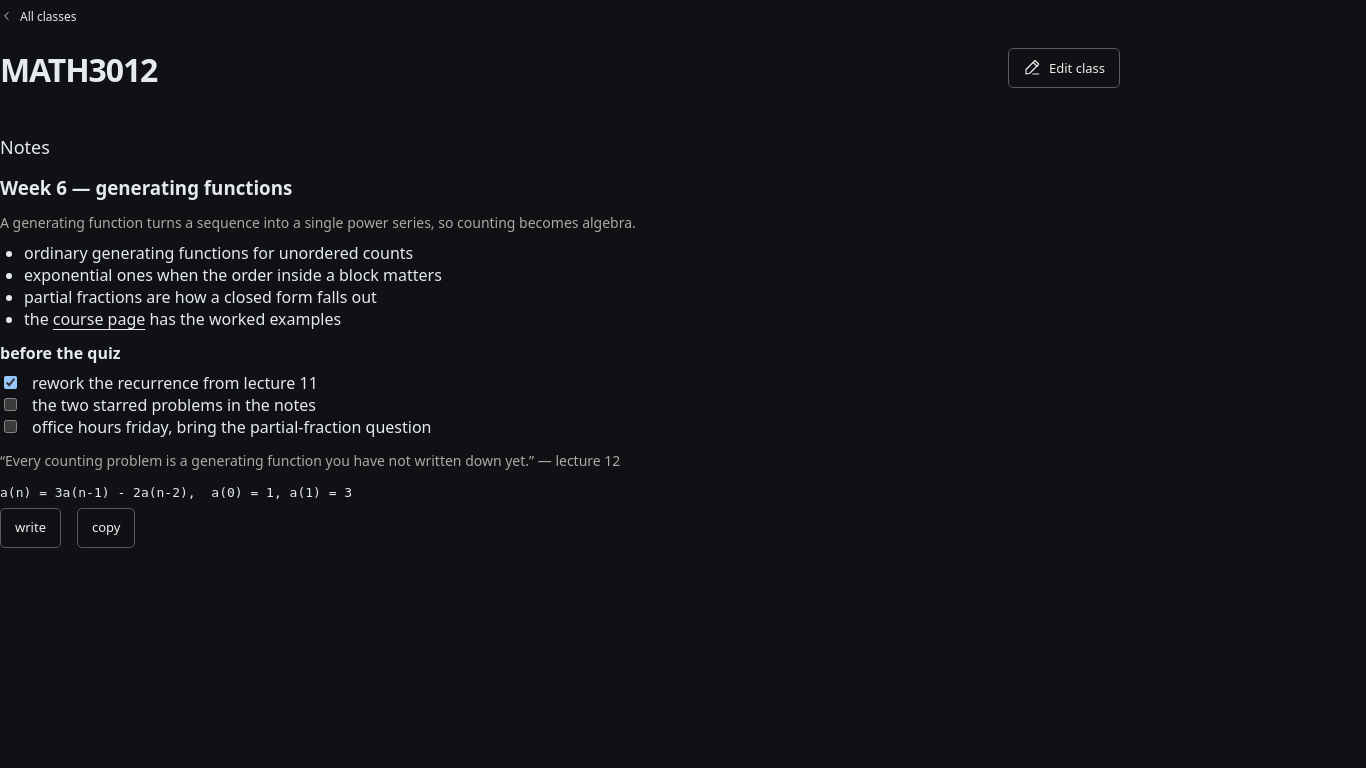
Test: normalizes the legacy class code for import without changing the recovery copy
Step 1. Click the button "Edit class" → x=1064, y=68, box [1008,48,1120,88]
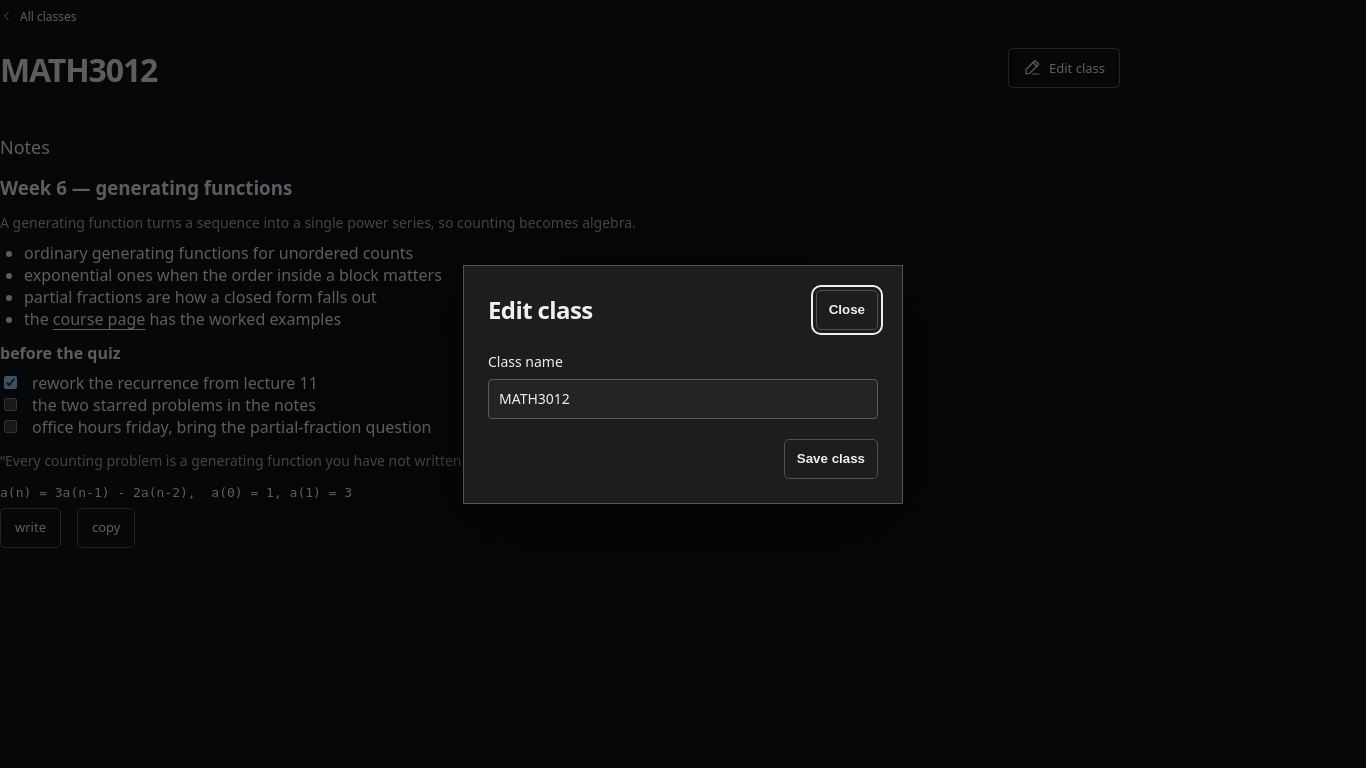
Now the number of fields is 1, box [488,378,878,418]
